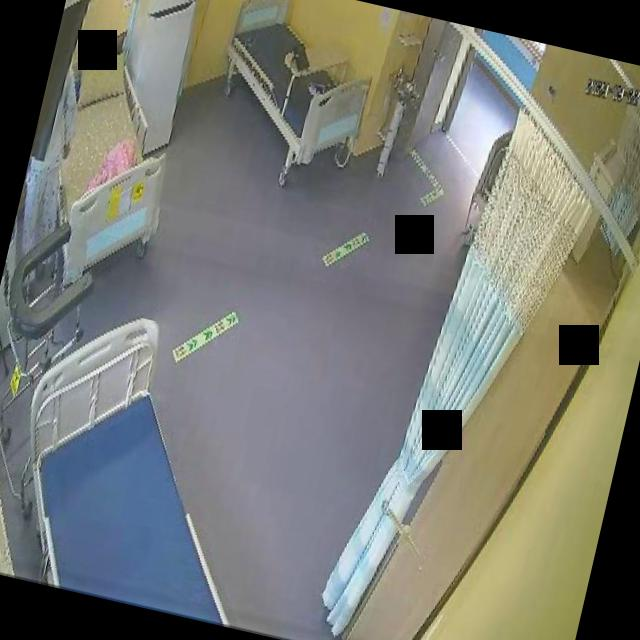bed: (0, 294, 287, 626), (20, 37, 193, 286), (208, 0, 387, 174)
patient: (8, 54, 95, 258)
stand: (9, 54, 95, 256)
walker: (0, 210, 106, 447)
